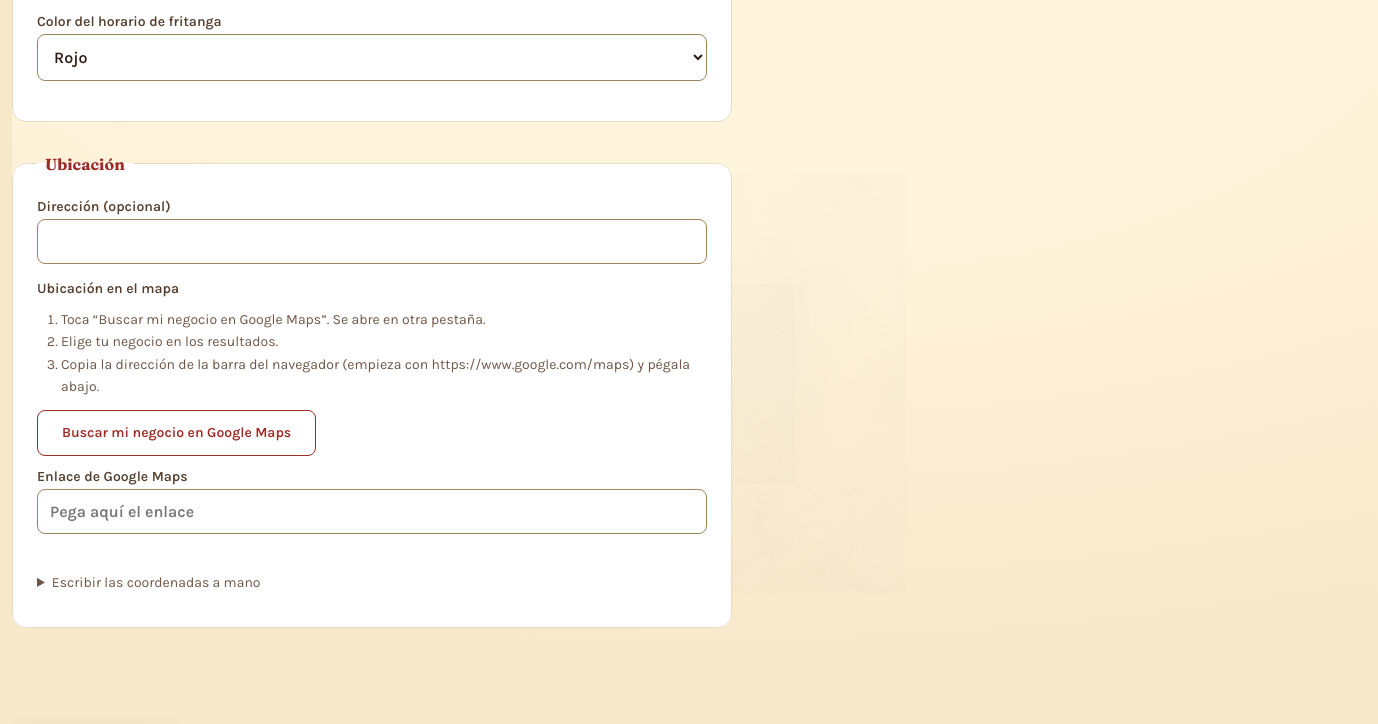
Test case: SettingsManager › avisa si el enlace es corto y no trae ubicación
(page scrolled)
Type "https://maps.app.goo.gl/abc123" into the field with placeholder "Pega aquí el enlace" at [372, 512], box [37,489,707,534]
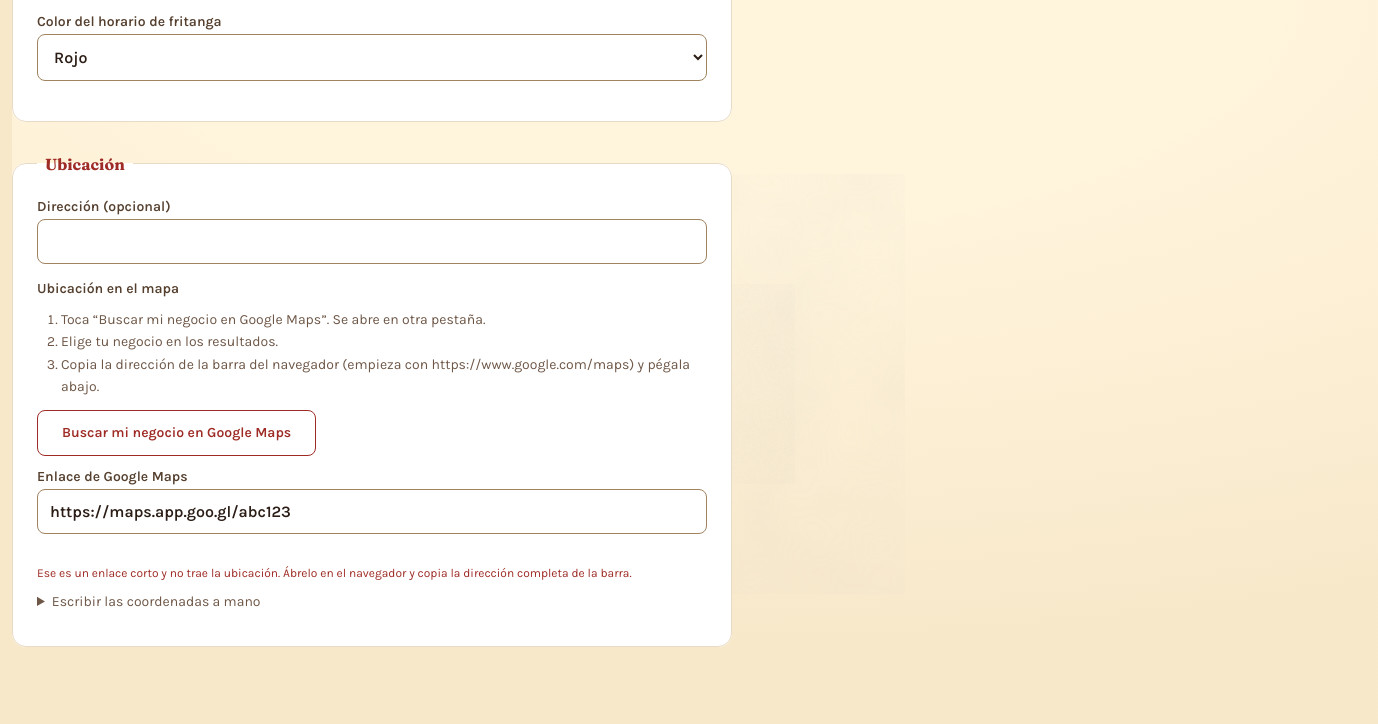
Expected: the text "enlace corto" is shown, [37,566,632,580]
